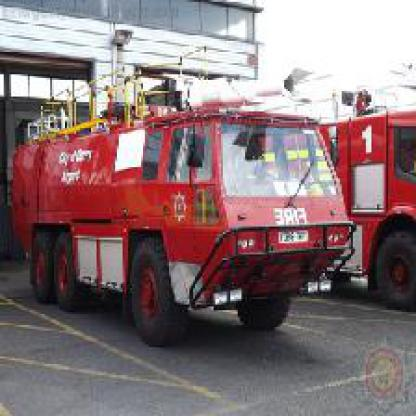emergency: (20, 71, 360, 360)
